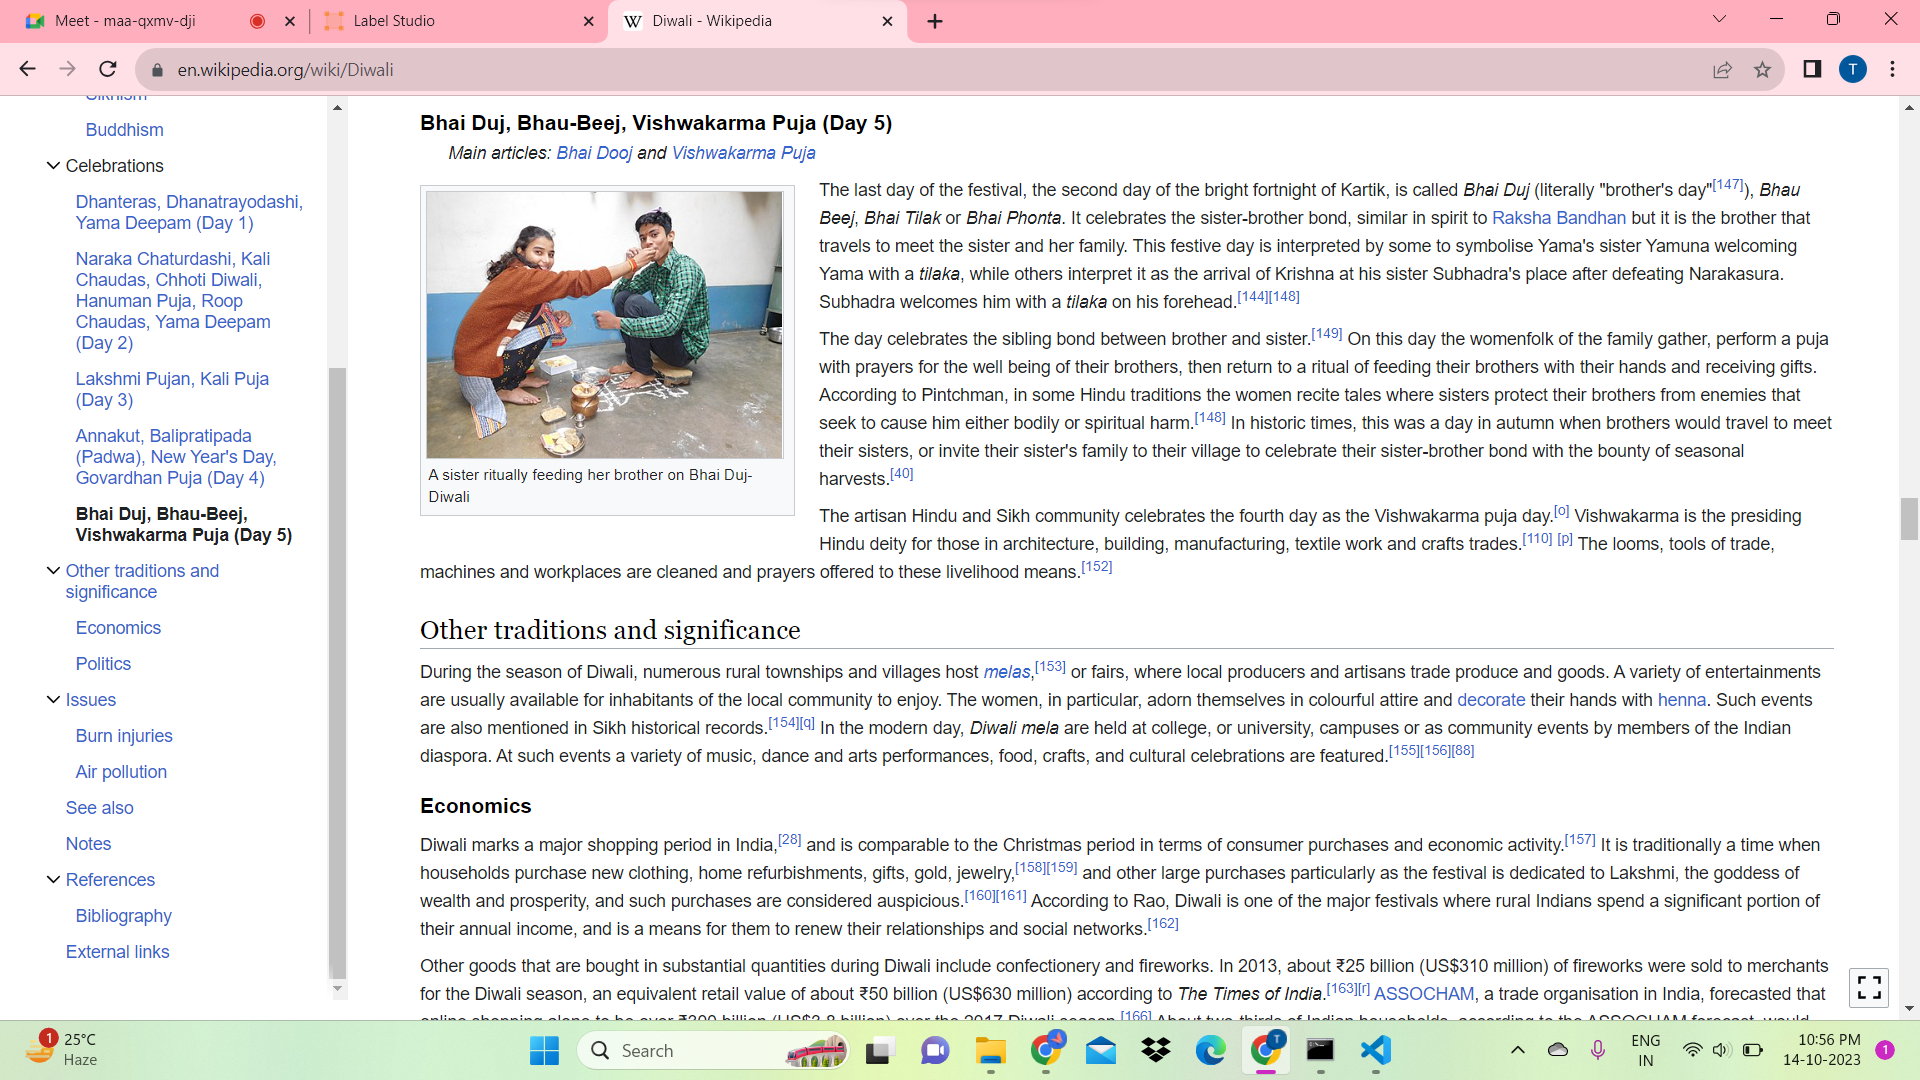Image: (414, 162, 790, 468)
Paragraph: (411, 651, 1822, 781), (808, 322, 1875, 492), (411, 832, 1834, 940), (820, 170, 1836, 315), (386, 501, 1829, 583), (411, 951, 1849, 1027), (62, 152, 305, 492), (62, 502, 349, 679), (57, 688, 199, 862), (28, 862, 203, 967), (401, 600, 818, 644), (406, 108, 913, 138), (411, 790, 542, 827)
